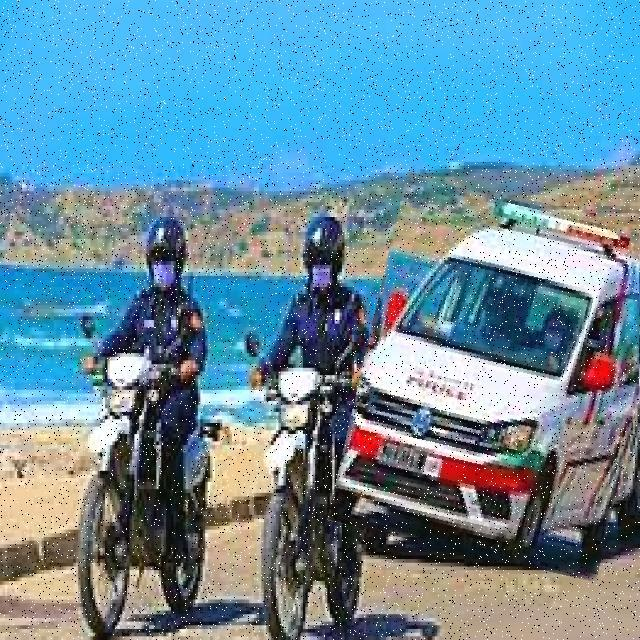police: (345, 185, 640, 568)
